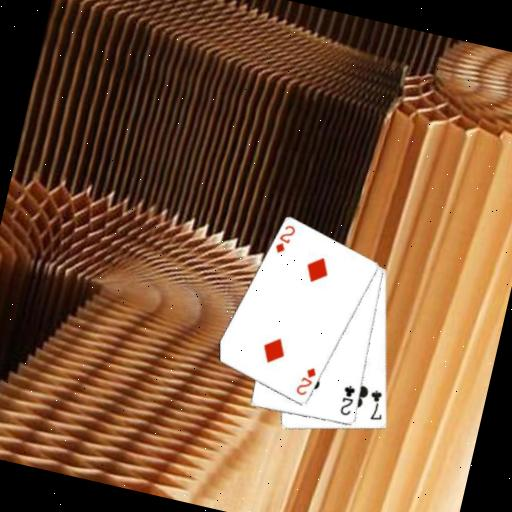2C: (336, 381, 359, 418)
2D: (292, 362, 319, 400), (271, 220, 298, 258)
7C: (362, 386, 390, 424)
